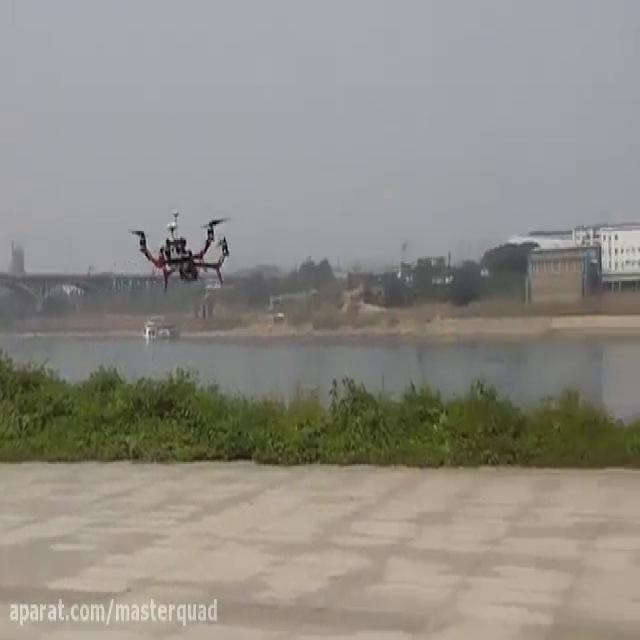drone: (123, 205, 240, 295)
